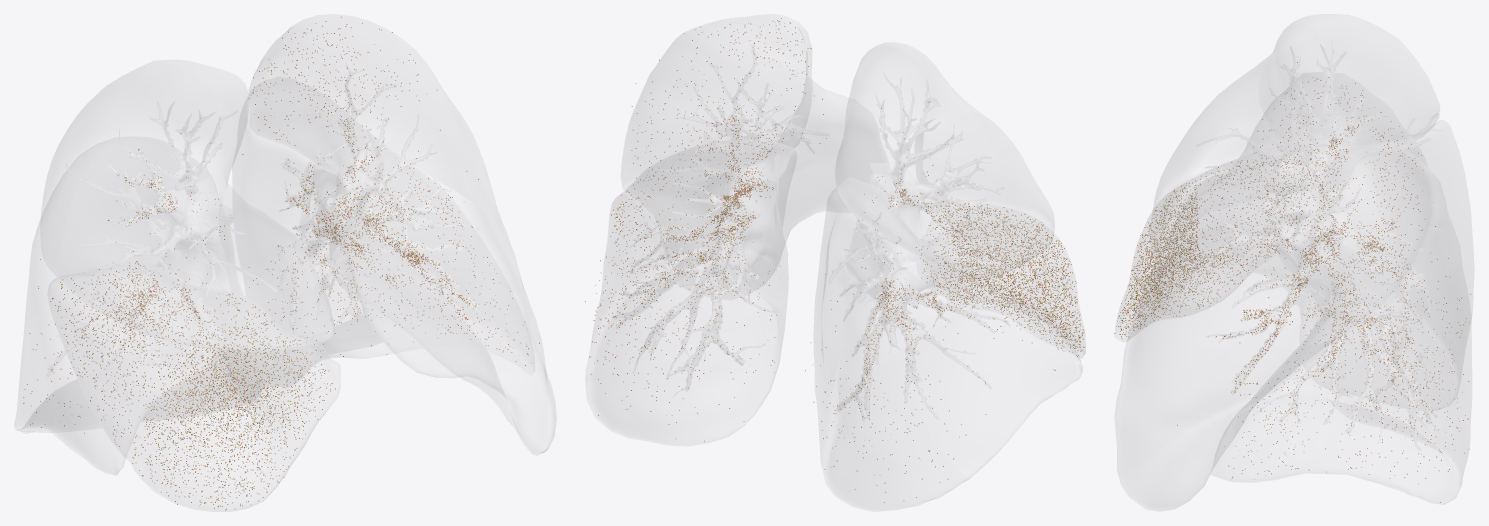
File: 3d-vh-m-lung-UBERON_0001004-all-as-celltypist-sphere-hra-pop.glb
3 renders of one model, left to right at view 1: azimuth 30°, elevation 25°; view 2: azimuth 150°, elevation 25°; view 3: azimuth 270°, elevation 25°, orthographic. The views are drawn at different scales.
Visible parts, largest first — view 1: VH_M_right_medial_bronchopulmonary_segment, VH_M_right_anterior_bronchopulmonary_segment, VH_M_left_superior_bronchopulmonary_segment, VH_M_right_superior_bronchopulmonary_segment, VH_M_right_lateral_bronchopulmonary_segment, VH_M_left_anterior_bronchopulmonary_segment, VH_M_left_lingula_superior_bronchopulmonary_segment, VH_M_right_anterior_basal_bronchopulmonary_segment, VH_M_right_posterior_bronchopulmonary_segment, VH_M_left_lingula_inferior_bronchopulmonary_segment, VH_M_left_posetrior_basal_bronchopulmonary_segment, VH_M_right_posterior_basal_bronchopulmonary_segment (+9 smaller); view 2: VH_M_left_posetrior_basal_bronchopulmonary_segment, VH_M_right_lateral_basal_bronchopulmonary_segment, VH_M_right_posterior_basal_bronchopulmonary_segment, VH_M_right_posterior_bronchopulmonary_segment, VH_M_right_anterior_basal_bronchopulmonary_segment, VH_M_left_lingula_superior_bronchopulmonary_segment, VH_M_left_superior_bronchopulmonary_segment, VH_M_left_anterior_bronchopulmonary_segment, VH_M_right_anterior_bronchopulmonary_segment, VH_M_right_superior_bronchopulmonary_segment, VH_M_left_apical_bronchopulmonary_segment, VH_M_right_apical_bronchopulmonary_segment (+16 smaller); view 3: VH_M_left_superior_bronchopulmonary_segment, VH_M_left_posterior_bronchopulmonary_segment, VH_M_left_lingula_inferior_bronchopulmonary_segment, VH_M_right_anterior_bronchopulmonary_segment, VH_M_right_posterior_bronchopulmonary_segment, VH_M_left_apical_bronchopulmonary_segment, VH_M_left_anterior_basal_bronchopulmonary_segment, VH_M_left_anterior_bronchopulmonary_segment, VH_M_left_lingula_superior_bronchopulmonary_segment, VH_M_right_medial_bronchopulmonary_segment, VH_M_left_posetrior_basal_bronchopulmonary_segment, VH_M_right_posterior_basal_bronchopulmonary_segment (+11 smaller).
Part boxes in pixels (left/top/right/bottom): VH_M_right_medial_bronchopulmonary_segment: left=132, top=289, right=340, bottom=511; VH_M_right_anterior_bronchopulmonary_segment: left=65, top=179, right=333, bottom=351; VH_M_left_superior_bronchopulmonary_segment: left=232, top=77, right=390, bottom=259; VH_M_right_superior_bronchopulmonary_segment: left=28, top=137, right=234, bottom=288; VH_M_right_lateral_bronchopulmonary_segment: left=48, top=264, right=192, bottom=459; VH_M_left_anterior_bronchopulmonary_segment: left=331, top=90, right=510, bottom=297; VH_M_left_lingula_superior_bronchopulmonary_segment: left=359, top=244, right=532, bottom=399; VH_M_right_anterior_basal_bronchopulmonary_segment: left=48, top=366, right=184, bottom=474; VH_M_right_posterior_bronchopulmonary_segment: left=41, top=63, right=150, bottom=282; VH_M_left_lingula_inferior_bronchopulmonary_segment: left=330, top=244, right=556, bottom=455; VH_M_left_posetrior_basal_bronchopulmonary_segment: left=240, top=262, right=382, bottom=386; VH_M_right_posterior_basal_bronchopulmonary_segment: left=19, top=263, right=242, bottom=433; VH_M_left_posetrior_basal_bronchopulmonary_segment: left=586, top=263, right=788, bottom=445; VH_M_right_lateral_basal_bronchopulmonary_segment: left=918, top=361, right=1040, bottom=478; VH_M_right_posterior_basal_bronchopulmonary_segment: left=815, top=334, right=966, bottom=511; VH_M_right_posterior_bronchopulmonary_segment: left=835, top=116, right=1025, bottom=280; VH_M_right_anterior_basal_bronchopulmonary_segment: left=973, top=280, right=1082, bottom=402; VH_M_left_lingula_superior_bronchopulmonary_segment: left=625, top=148, right=872, bottom=238; VH_M_left_superior_bronchopulmonary_segment: left=624, top=141, right=796, bottom=259; VH_M_left_anterior_bronchopulmonary_segment: left=621, top=67, right=888, bottom=186; VH_M_right_anterior_bronchopulmonary_segment: left=914, top=86, right=1054, bottom=260; VH_M_right_superior_bronchopulmonary_segment: left=814, top=178, right=957, bottom=358; VH_M_left_apical_bronchopulmonary_segment: left=672, top=14, right=812, bottom=129; VH_M_right_apical_bronchopulmonary_segment: left=848, top=43, right=947, bottom=101; VH_M_left_superior_bronchopulmonary_segment: left=1337, top=148, right=1471, bottom=364; VH_M_left_posterior_bronchopulmonary_segment: left=1325, top=103, right=1432, bottom=287; VH_M_left_lingula_inferior_bronchopulmonary_segment: left=1116, top=359, right=1290, bottom=511; VH_M_right_anterior_bronchopulmonary_segment: left=1149, top=55, right=1277, bottom=257; VH_M_right_posterior_bronchopulmonary_segment: left=1325, top=18, right=1439, bottom=147; VH_M_left_apical_bronchopulmonary_segment: left=1247, top=72, right=1379, bottom=190; VH_M_left_anterior_basal_bronchopulmonary_segment: left=1211, top=386, right=1324, bottom=482; VH_M_left_anterior_bronchopulmonary_segment: left=1154, top=150, right=1283, bottom=264; VH_M_left_lingula_superior_bronchopulmonary_segment: left=1115, top=263, right=1339, bottom=433; VH_M_right_medial_bronchopulmonary_segment: left=1115, top=186, right=1251, bottom=341; VH_M_left_posetrior_basal_bronchopulmonary_segment: left=1327, top=361, right=1471, bottom=504; VH_M_right_posterior_basal_bronchopulmonary_segment: left=1331, top=294, right=1472, bottom=409.
Bounding box in the file's own units: 0.2594 × 0.2291 × 0.1897.
